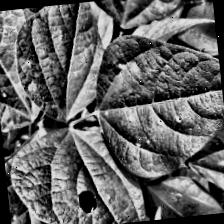Bean Rust: (90, 27, 224, 182), (20, 1, 108, 117), (4, 148, 90, 224), (178, 99, 224, 203), (0, 8, 36, 128), (144, 174, 224, 221)
